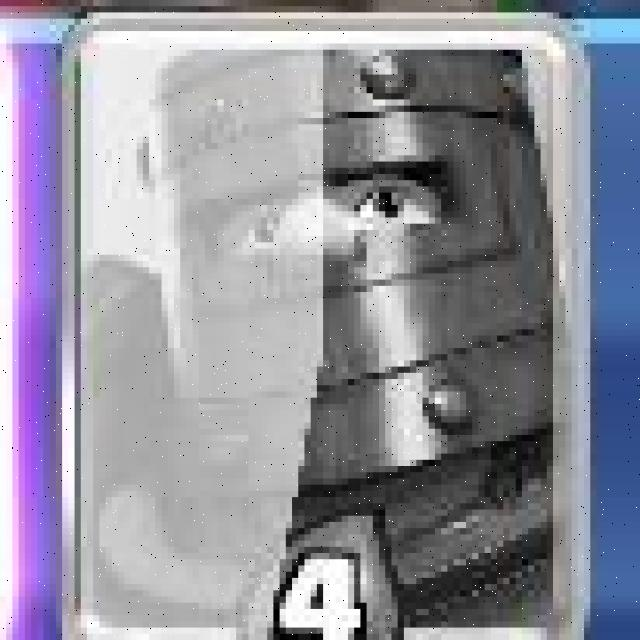Dark_Prince: (58, 8, 593, 640)
